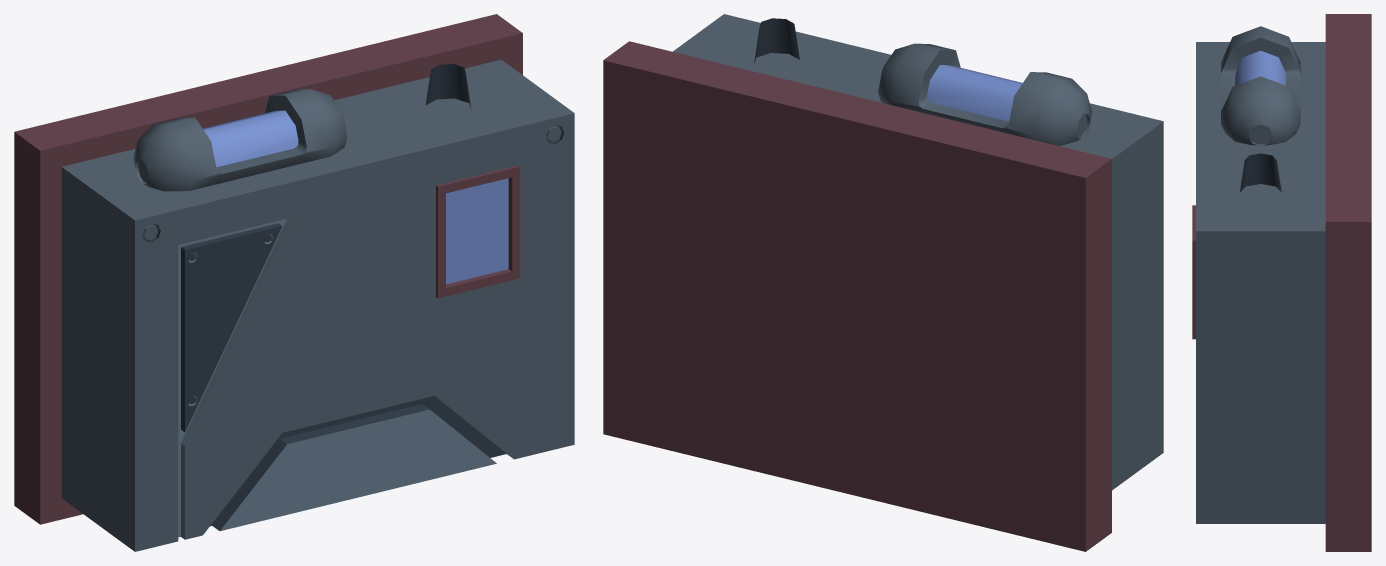
The model's file is ABox.fbx.
3 renders of one model, left to right at view 1: azimuth 30°, elevation 25°; view 2: azimuth 150°, elevation 25°; view 3: azimuth 270°, elevation 25°, orthographic. The views are drawn at different scales.
Visible parts, largest first — view 1: ABox, ABox-Light, ABox-Switch; view 2: ABox, ABox-Light, ABox-Switch; view 3: ABox, ABox-Light, ABox-Switch.
Part boxes in pixels (x1,y1,x2,y2): ABox: (14,14,574,551); ABox-Light: (133,89,347,191); ABox-Switch: (425,64,471,110); ABox: (603,14,1163,551); ABox-Light: (878,43,1091,145); ABox-Switch: (754,18,799,63); ABox: (1192,14,1371,551); ABox-Light: (1221,26,1300,145); ABox-Switch: (1240,153,1281,191).
Size of the model in its own units: 76.95 by 61.73 by 28.04.
